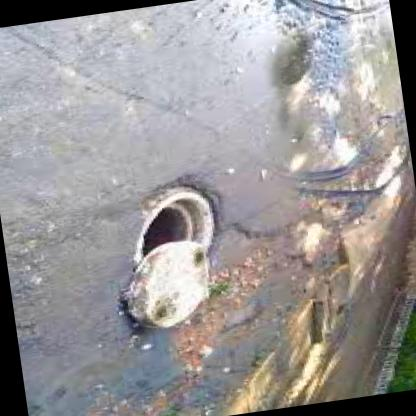manholes: (86, 157, 263, 337)
